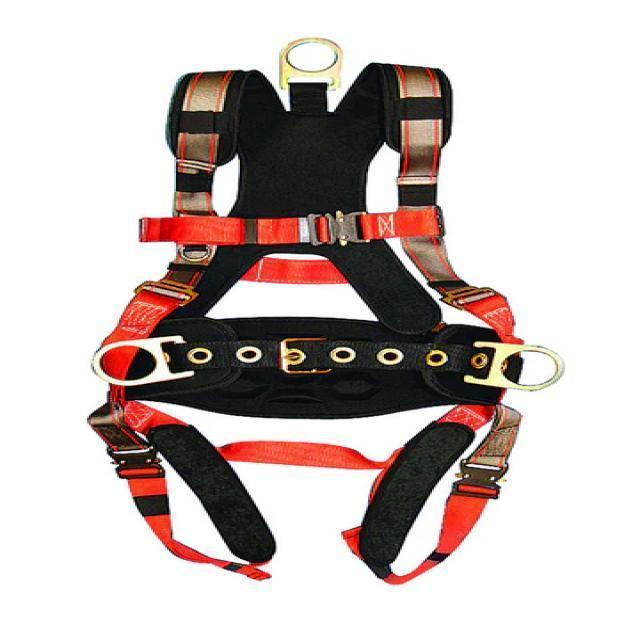Harness: (88, 42, 563, 585)
